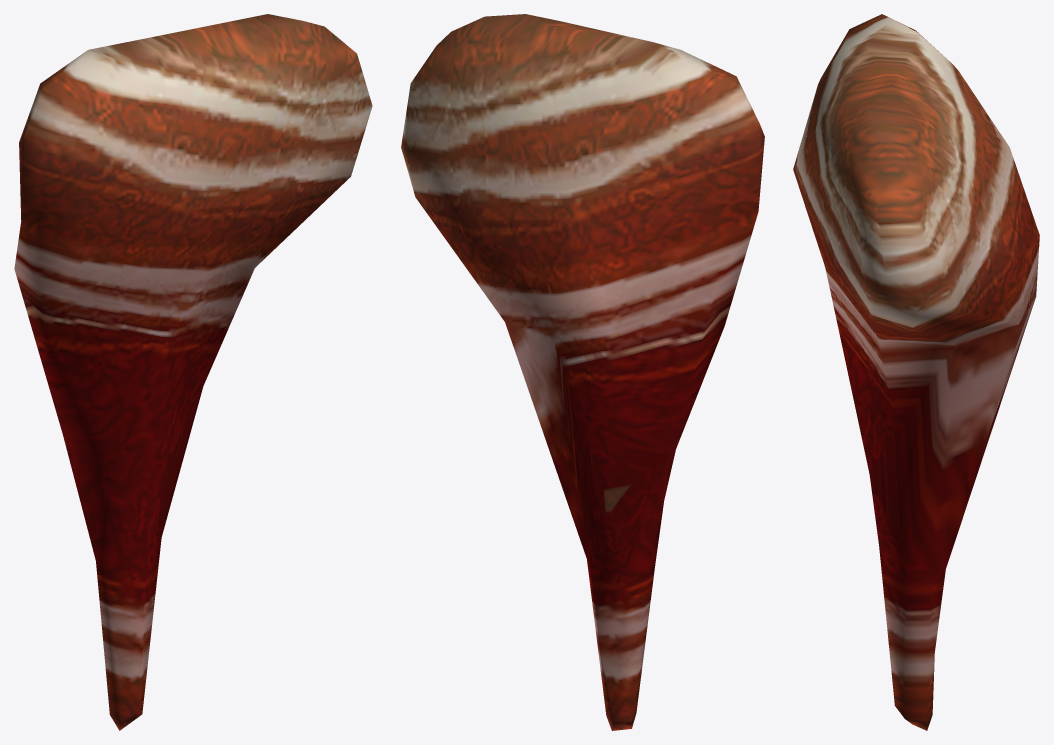
The model's file is ItFo_Bacon.fbx.
3 views of the same model, side by side, from view 1: azimuth 30°, elevation 25°; view 2: azimuth 150°, elevation 25°; view 3: azimuth 270°, elevation 25° (orthographic). The views are drawn at different scales.
Parts seen in each view (by area): view 1: zenGin0; view 2: zenGin0; view 3: zenGin0.
Boxes of the visible parts, <box> form: zenGin0: <box>14,14,372,730</box>; zenGin0: <box>401,14,764,730</box>; zenGin0: <box>793,14,1039,730</box>.
Bounding box in the file's own units: 20.11 × 37.65 × 12.31.
